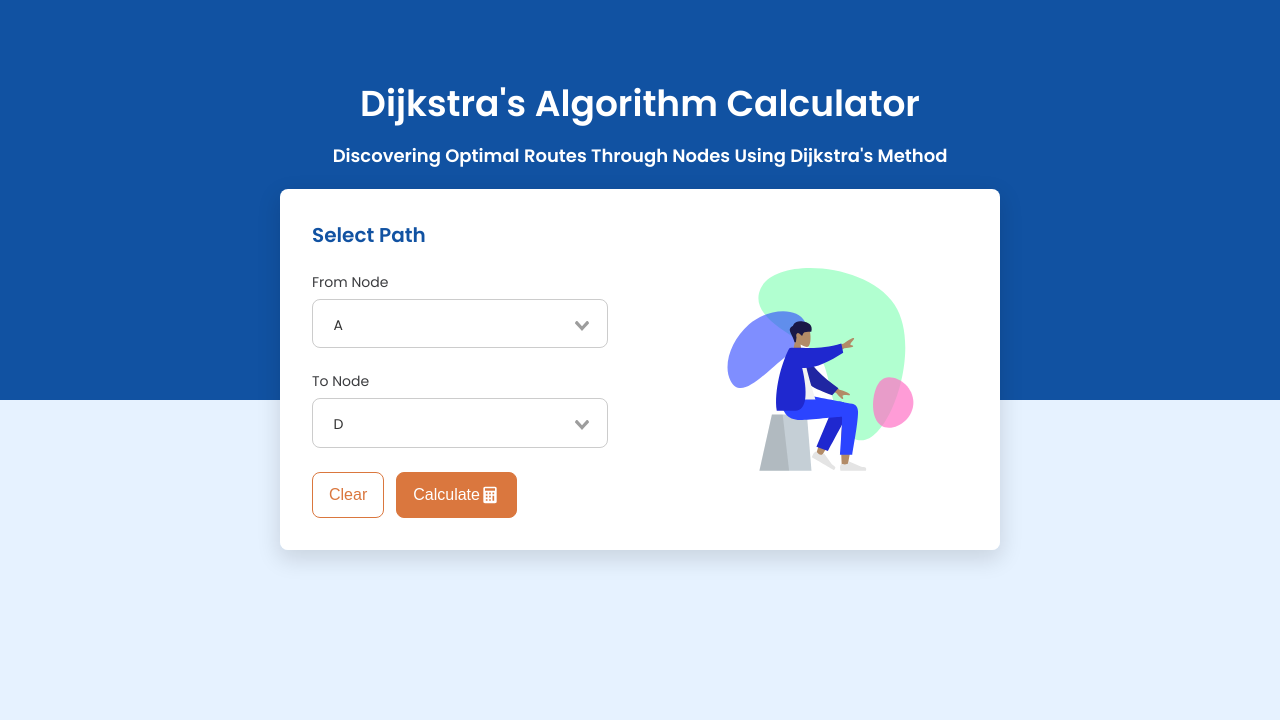
PathCalculatorComponent › passes correct props to ResultComponent when result is shown
Step 1. Click the button "Calculate" → (457, 495), box [396, 472, 517, 518]
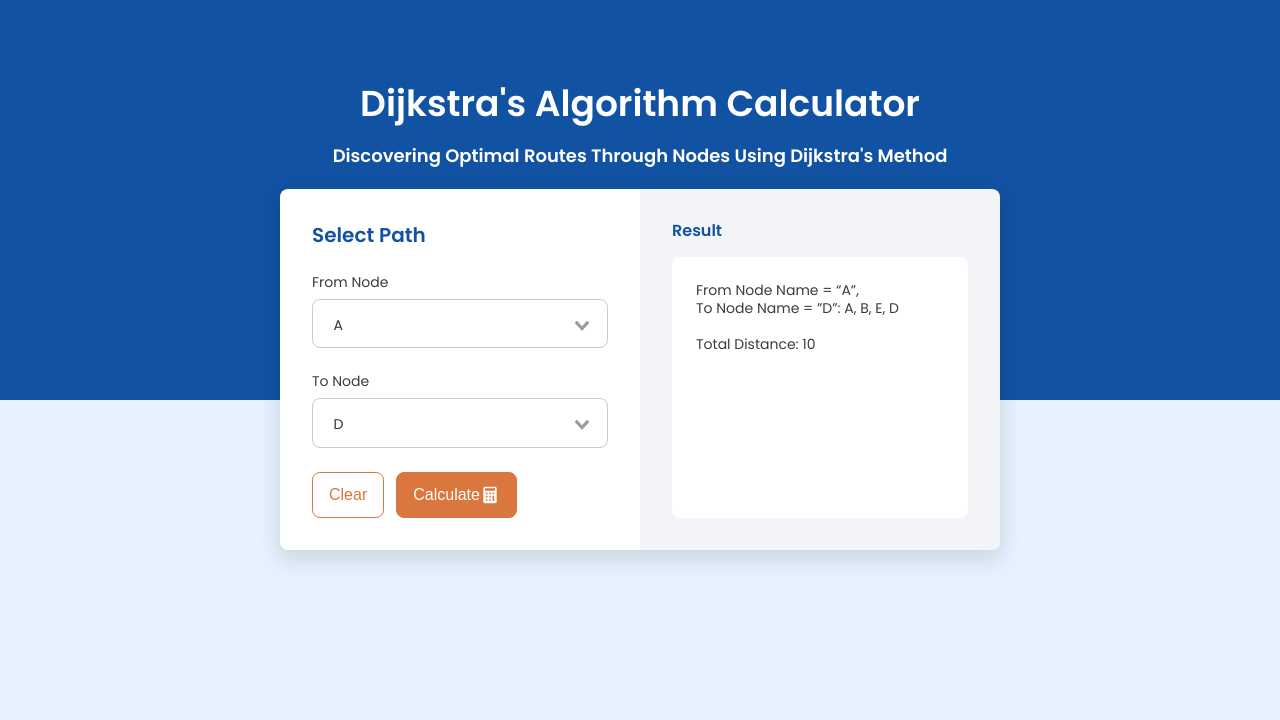
Now the element that starts with "Result" is shown, box [672, 221, 968, 518]
